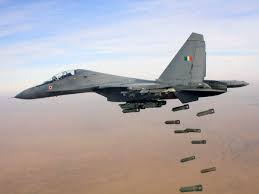maybay_muctieu: (14, 30, 248, 108)
